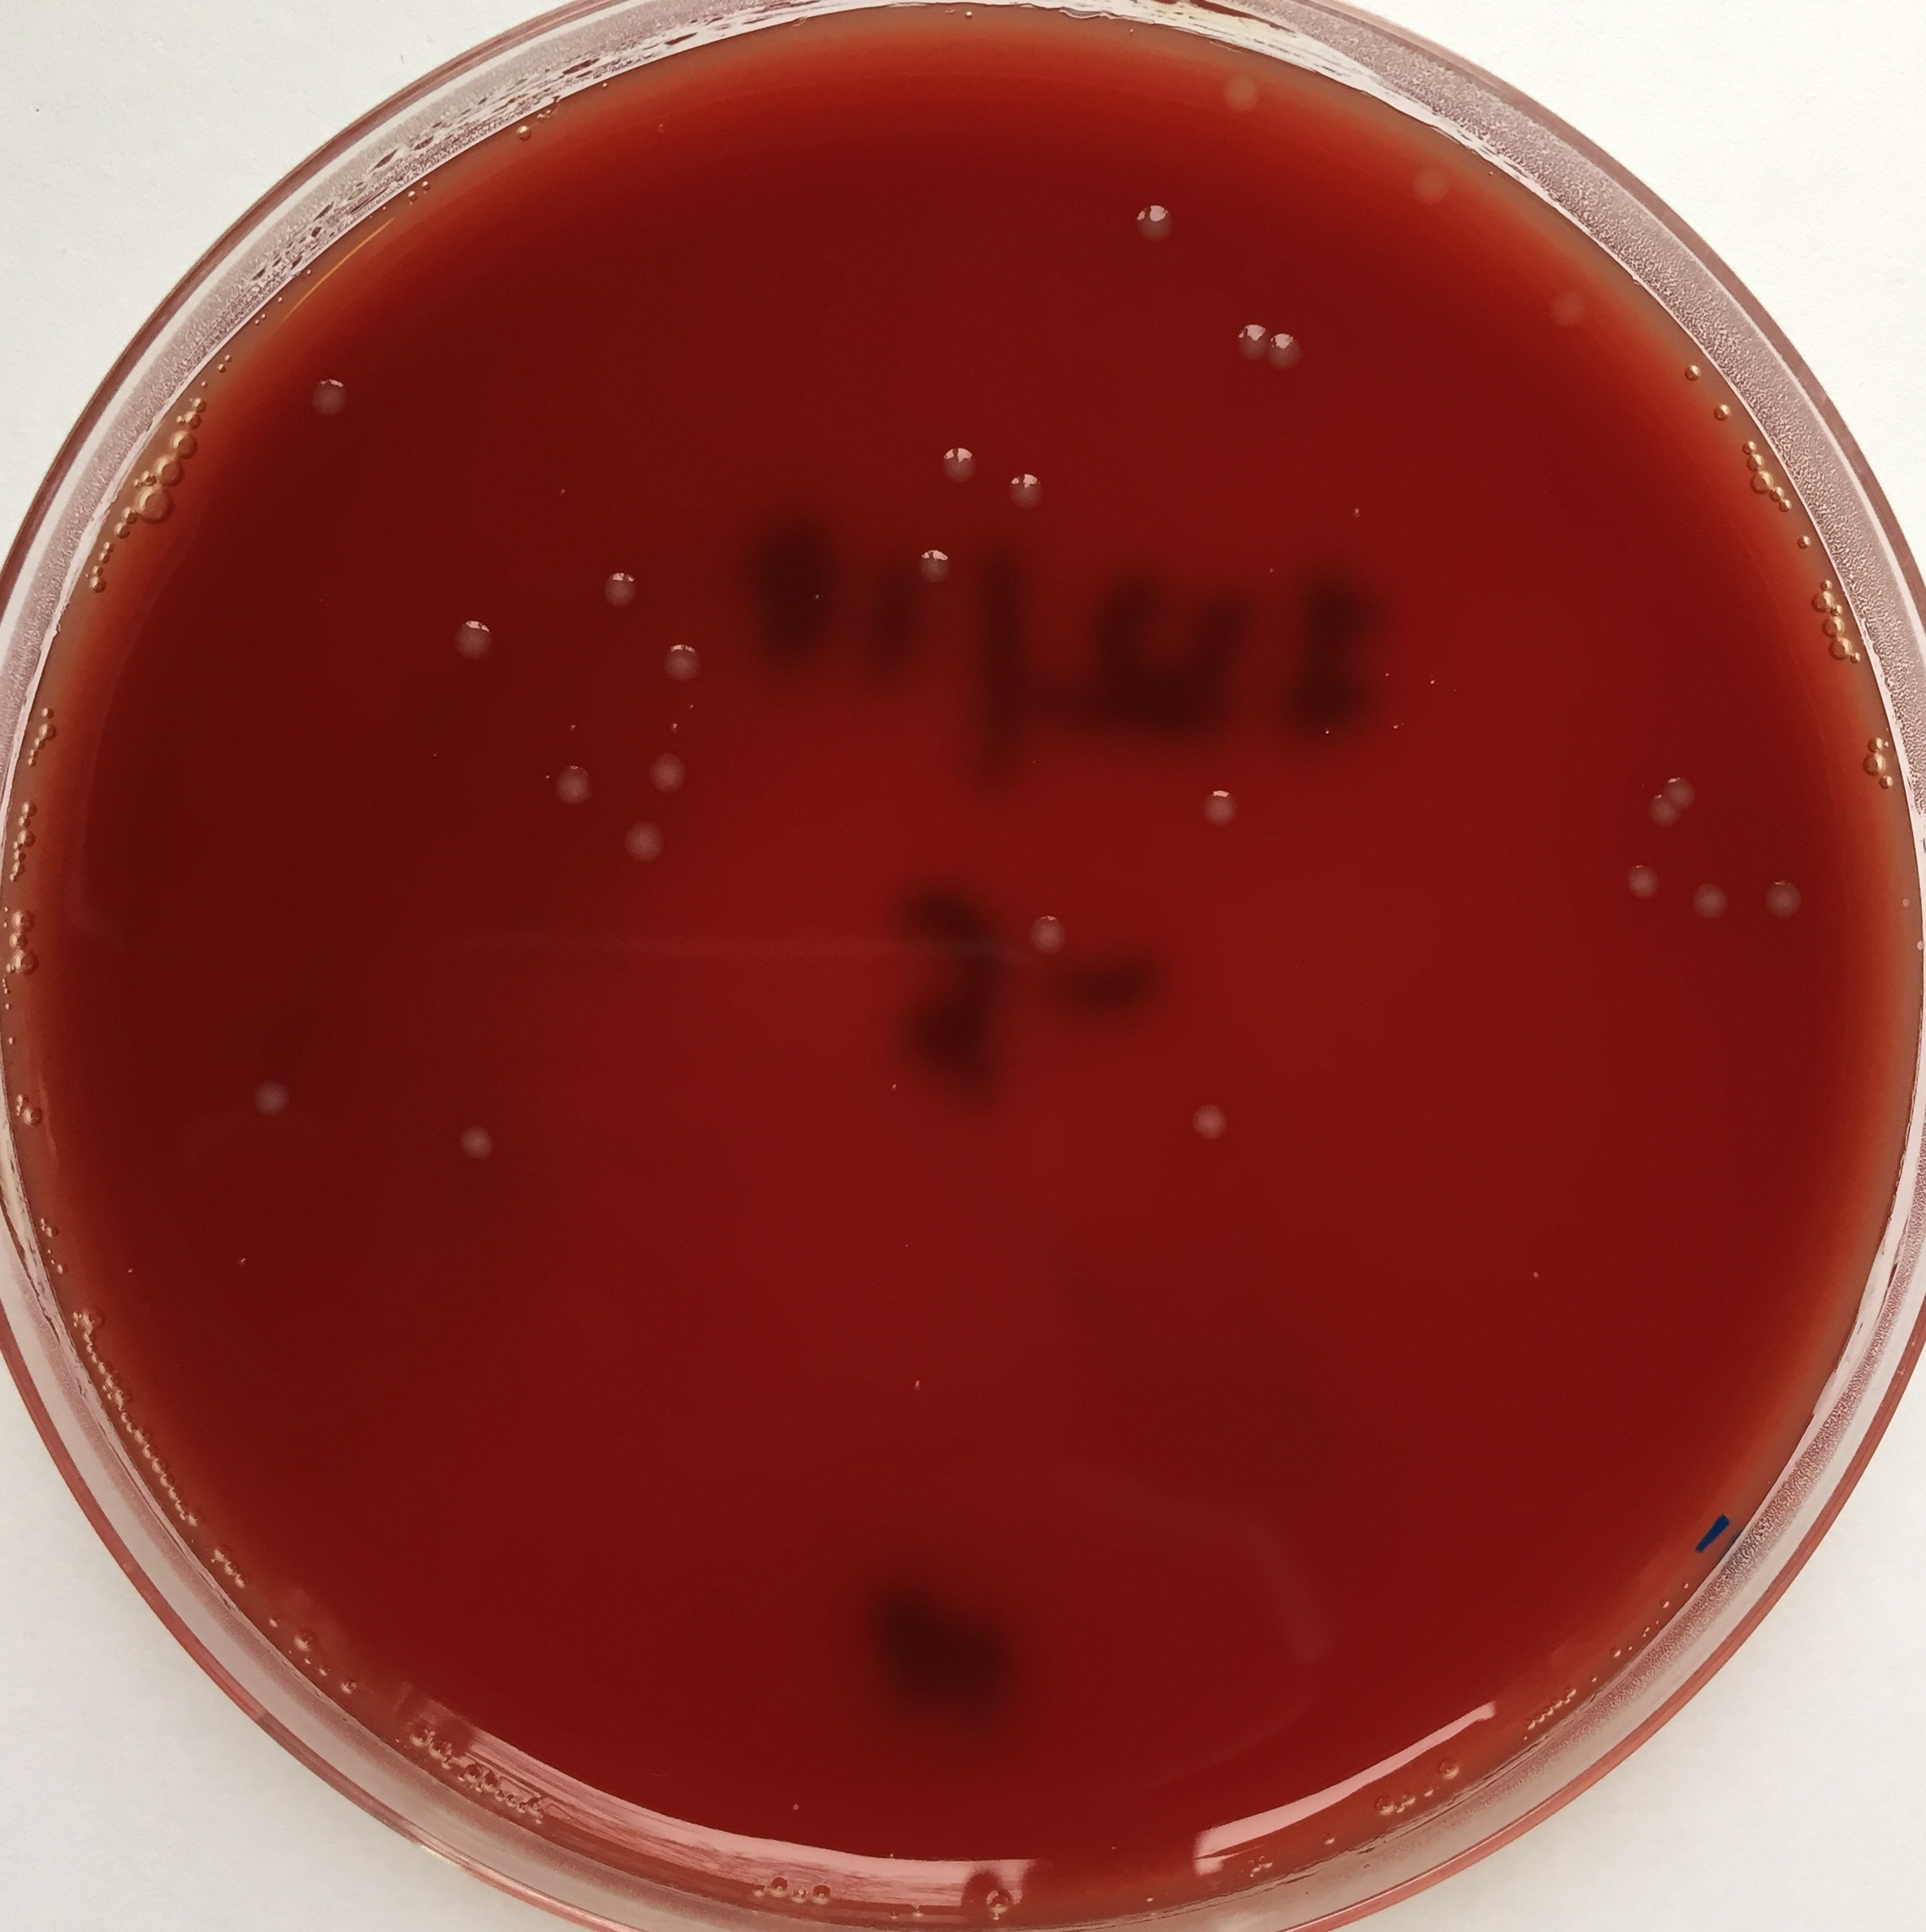sp14: (1388, 150, 1473, 229), (1198, 69, 1291, 139), (649, 619, 725, 697), (1531, 259, 1600, 344), (293, 369, 370, 439), (610, 808, 681, 882), (619, 743, 704, 801), (1187, 764, 1247, 845), (452, 609, 519, 681), (1002, 452, 1062, 528), (1180, 1099, 1250, 1157), (924, 429, 984, 496), (586, 556, 644, 618), (1263, 323, 1330, 374), (898, 542, 963, 593), (1123, 189, 1178, 247), (1228, 303, 1272, 374), (1023, 902, 1072, 963), (450, 1115, 501, 1173), (238, 1076, 293, 1129), (540, 760, 598, 810), (1660, 760, 1704, 820), (1681, 880, 1736, 926), (1758, 872, 1804, 926), (1619, 857, 1665, 905), (1635, 792, 1670, 831)
